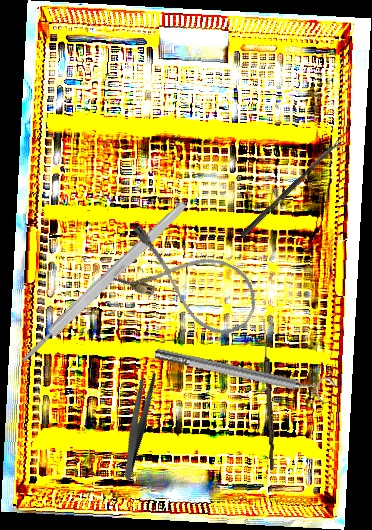Cannula: (108, 219, 269, 345)
Dressing Forceps: (97, 368, 179, 482)
Fixation Ring: (152, 337, 337, 408)
Scalpel Handle: (17, 198, 190, 367)
Surgical Spoon: (239, 137, 345, 239), (259, 318, 278, 471)
